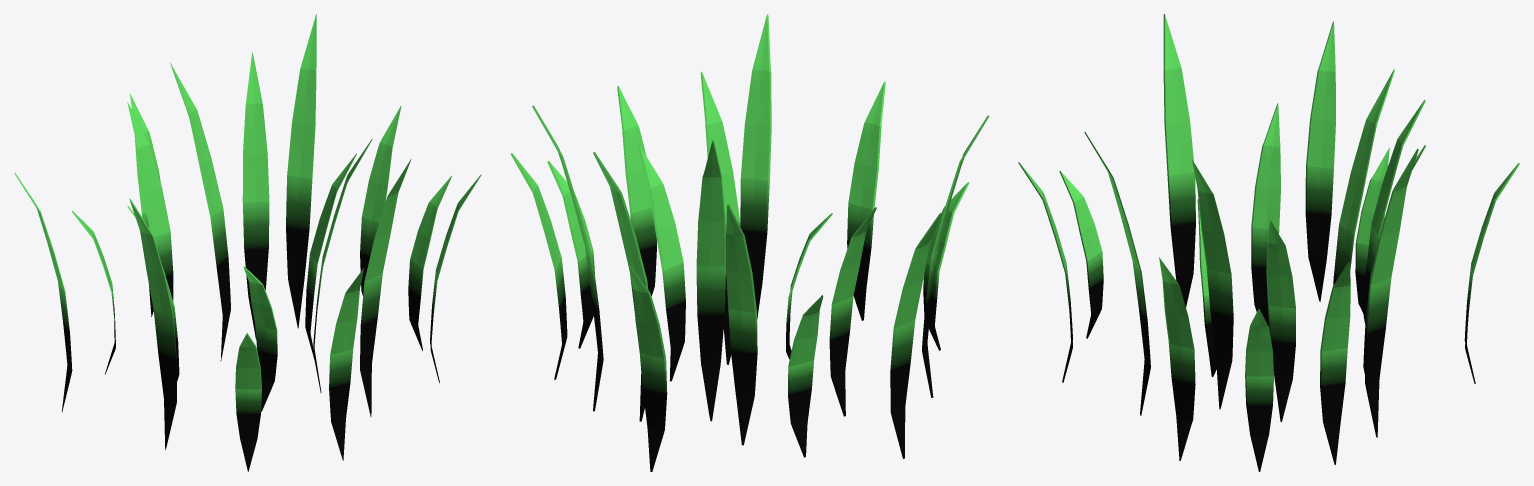
File: Graß 1.fbx
The picture shows the model from 3 angles, left to right: view 1: azimuth 30°, elevation 25°; view 2: azimuth 150°, elevation 25°; view 3: azimuth 270°, elevation 25°; orthographic projection. The views are drawn at different scales.
Visible parts, largest first — view 1: Plane.006; view 2: Plane.006; view 3: Plane.006.
Part boxes in pixels (x1,y1,x2,y2): Plane.006: (14,14,481,471); Plane.006: (510,14,989,471); Plane.006: (1018,14,1519,471).
Size of the model in its own units: 239 by 165 by 243.
